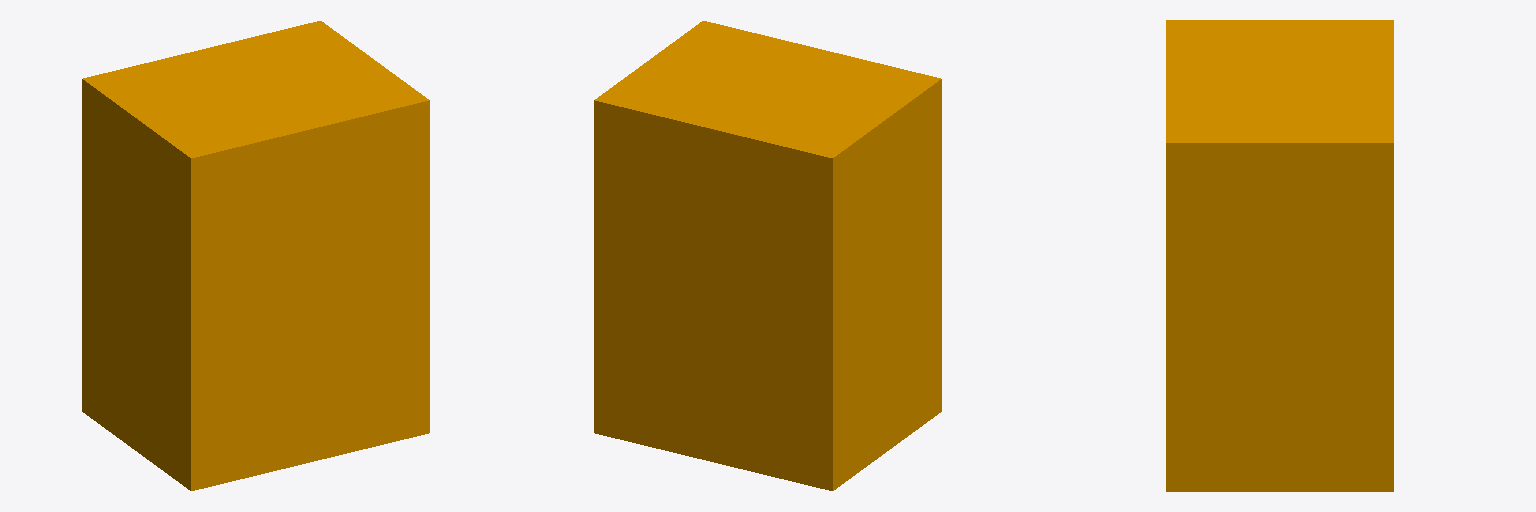
The robot description file, URDF, robot "carro":
<?xml version="1.0"?>
<!-- Componente "carro" de la biblioteca del contrato 2.0. Origen = centro geométrico. -->
<robot name="carro">
  <link name="carro">
    <visual><geometry><box size="0.24 0.19 0.32"/></geometry></visual>
    <collision><geometry><box size="0.24 0.19 0.32"/></geometry></collision>
  </link>
</robot>

--- Facts derived from the render (not from the file) ---
The picture shows the robot from 3 angles, left to right: view 1: azimuth 30°, elevation 25°; view 2: azimuth 150°, elevation 25°; view 3: azimuth 270°, elevation 25°; orthographic projection.
Model carro with 1 links and 0 joints (none), rooted at carro, posed all joints at 0.
Links seen in each view (by area): view 1: carro; view 2: carro; view 3: carro.
Boxes of the visible links, <box> form: carro: <box>82,21,429,490</box>; carro: <box>594,21,941,490</box>; carro: <box>1166,20,1393,491</box>.
Bounding box of the posed robot: 0.24 × 0.19 × 0.32 m (x, y, z).
Geometry: primitives only (box / cylinder / sphere), no mesh files.
